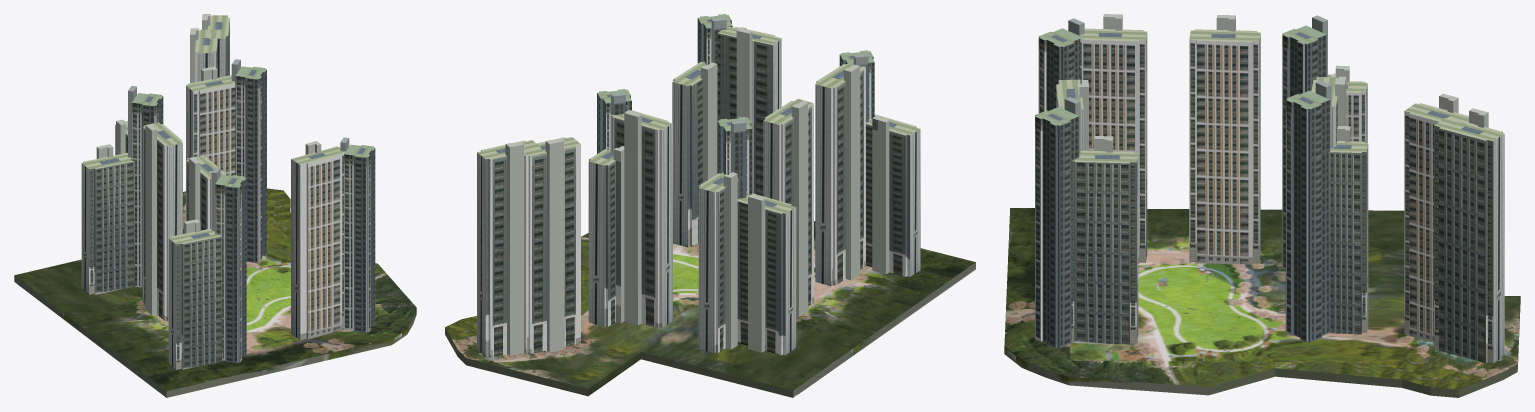
Rendered from ICJ00100_A.glb.
The picture shows the model from 3 angles, left to right: view 1: azimuth 30°, elevation 25°; view 2: azimuth 150°, elevation 25°; view 3: azimuth 270°, elevation 25°; orthographic projection. The views are drawn at different scales.
Visible parts, largest first — view 1: MainBuilding; view 2: MainBuilding; view 3: MainBuilding.
Part boxes in pixels (left/top/right/bottom): MainBuilding: left=14, top=14, right=416, bottom=397; MainBuilding: left=445, top=14, right=975, bottom=397; MainBuilding: left=1004, top=14, right=1520, bottom=397.
Bounding box in the file's own units: 53.39 × 34.47 × 64.01.
Materials: 1 (1 with a texture image).
